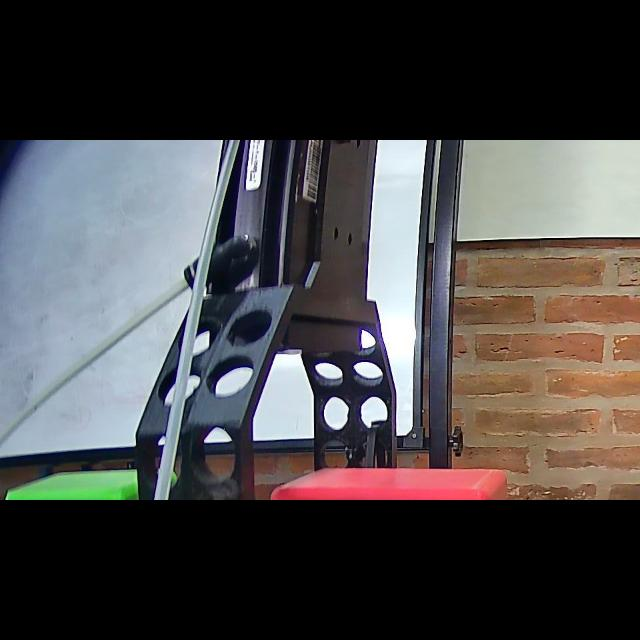greenBox: (0, 466, 196, 500)
redBox: (269, 458, 525, 499)
yellowBox: (632, 462, 640, 500)
